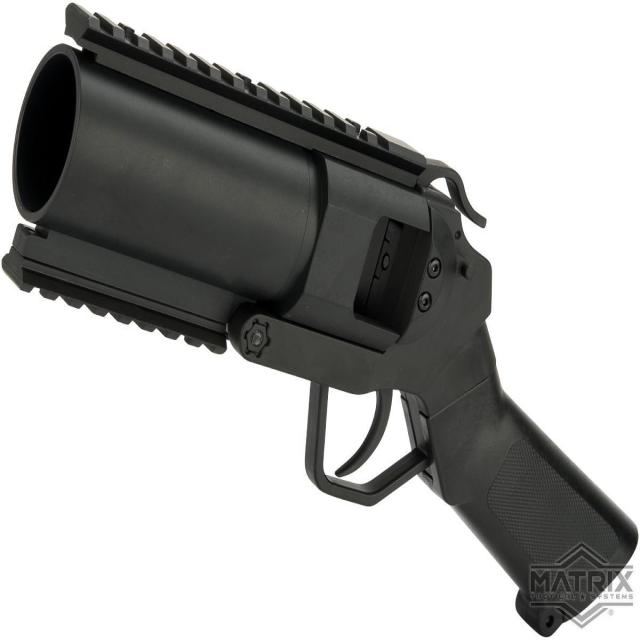weapon: (1, 3, 638, 628)
